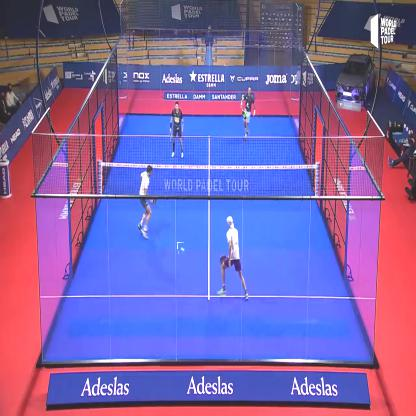ball: (178, 242, 185, 255)
